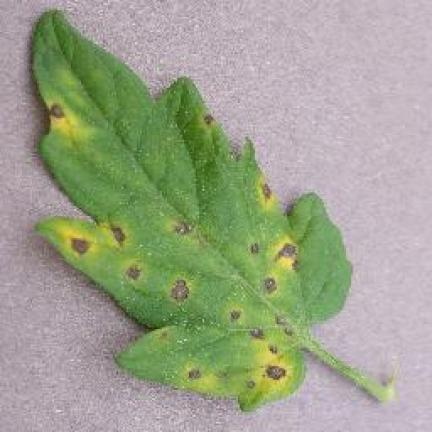disease: (34, 12, 392, 408)
leaf: (268, 344, 277, 353)
